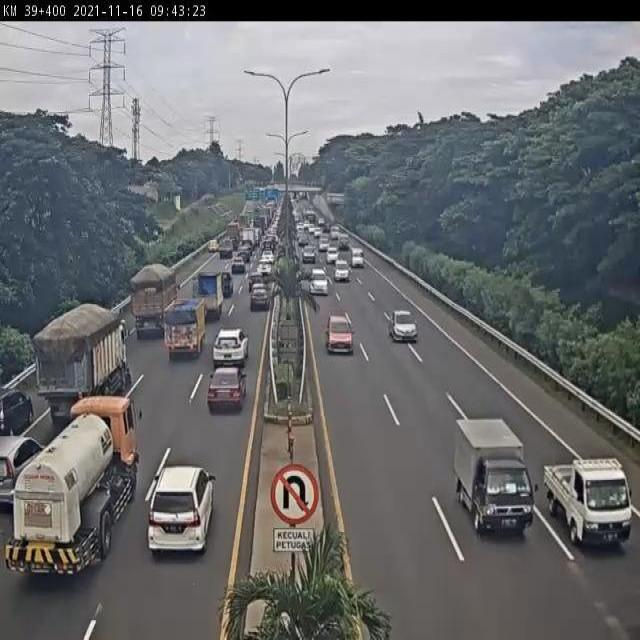car: (448, 413, 538, 548), (542, 443, 640, 561), (143, 447, 220, 564), (0, 436, 42, 515), (199, 364, 248, 424), (207, 320, 253, 376), (0, 382, 45, 438), (321, 309, 360, 359), (383, 301, 421, 351), (245, 282, 275, 322), (306, 265, 330, 296), (332, 256, 351, 285), (246, 267, 267, 293), (218, 270, 234, 302), (349, 245, 368, 271), (229, 251, 248, 276), (202, 236, 222, 257), (254, 261, 272, 283)
small truck: (157, 296, 209, 373), (193, 268, 231, 324)
truck-m-: (0, 398, 144, 594), (28, 301, 137, 432), (115, 262, 183, 338)
